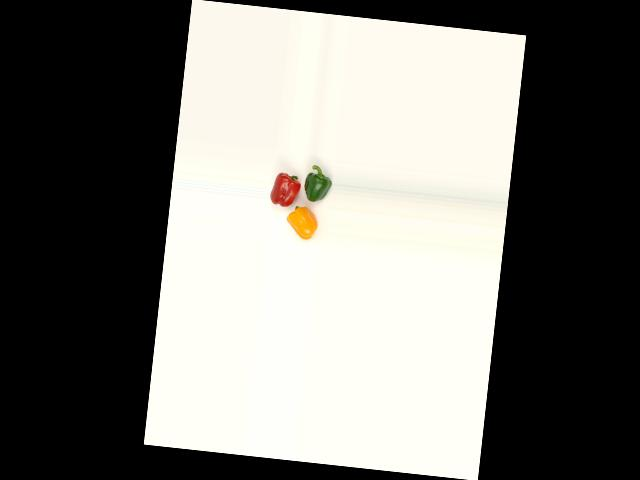bell_pepper: (301, 162, 334, 203)
